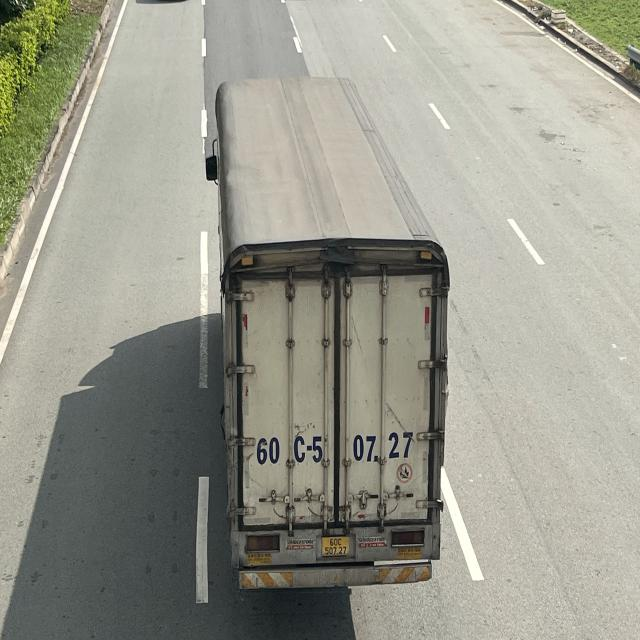truck: (206, 78, 451, 594)
